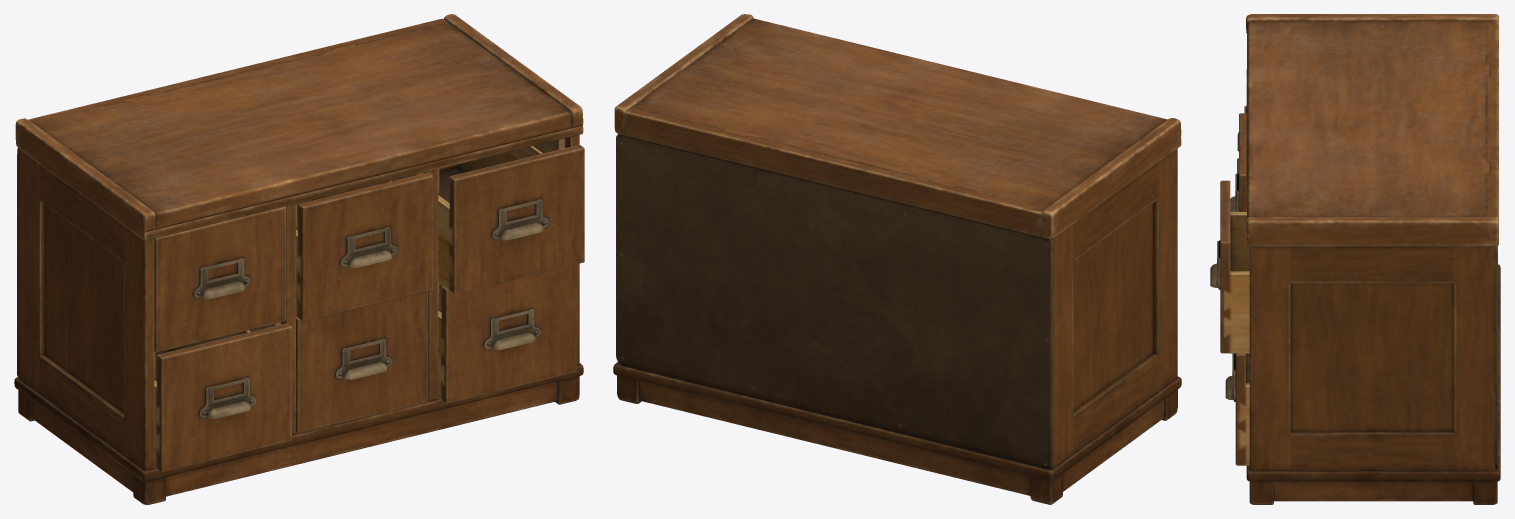
File: vintage_wooden_drawer_01.gltf
3 views of the same model, side by side, from view 1: azimuth 30°, elevation 25°; view 2: azimuth 150°, elevation 25°; view 3: azimuth 270°, elevation 25° (orthographic). The views are drawn at different scales.
Visible parts, largest first — view 1: vintage_wooden_drawer_01_body, vintage_wooden_drawer_01_drawer03, vintage_wooden_drawer_01_drawer04, vintage_wooden_drawer_01_drawer02, vintage_wooden_drawer_01_drawer01, vintage_wooden_drawer_01_drawer06, vintage_wooden_drawer_01_drawer05; view 2: vintage_wooden_drawer_01_body; view 3: vintage_wooden_drawer_01_body, vintage_wooden_drawer_01_drawer03, vintage_wooden_drawer_01_drawer06, vintage_wooden_drawer_01_drawer02.
Part boxes in pixels (x1,y1,x2,y2): vintage_wooden_drawer_01_body: (14,14,583,504); vintage_wooden_drawer_01_drawer03: (438,145,584,293); vintage_wooden_drawer_01_drawer04: (154,323,291,472); vintage_wooden_drawer_01_drawer02: (296,172,433,321); vintage_wooden_drawer_01_drawer01: (154,206,286,352); vintage_wooden_drawer_01_drawer06: (438,264,576,403); vintage_wooden_drawer_01_drawer05: (296,291,428,433); vintage_wooden_drawer_01_body: (613,14,1181,504); vintage_wooden_drawer_01_body: (1246,14,1500,504); vintage_wooden_drawer_01_drawer03: (1210,180,1249,353); vintage_wooden_drawer_01_drawer06: (1225,353,1249,465); vintage_wooden_drawer_01_drawer02: (1230,113,1246,211).
Size of the model in its own units: 1.72 by 1.09 by 1.01.
Materials: 1 (1 with a texture image).
